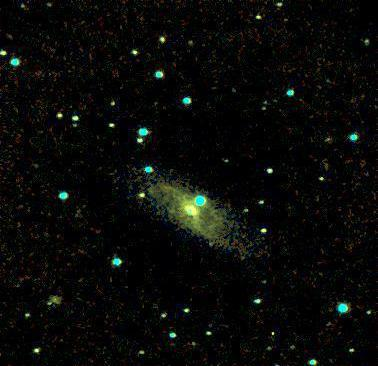star: (42, 286, 72, 316)
